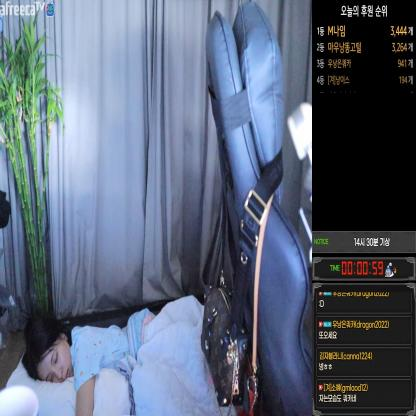streamer: (23, 307, 236, 416)
